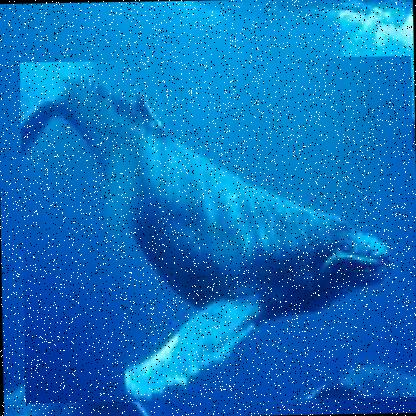blue_whale: (20, 55, 415, 405)
